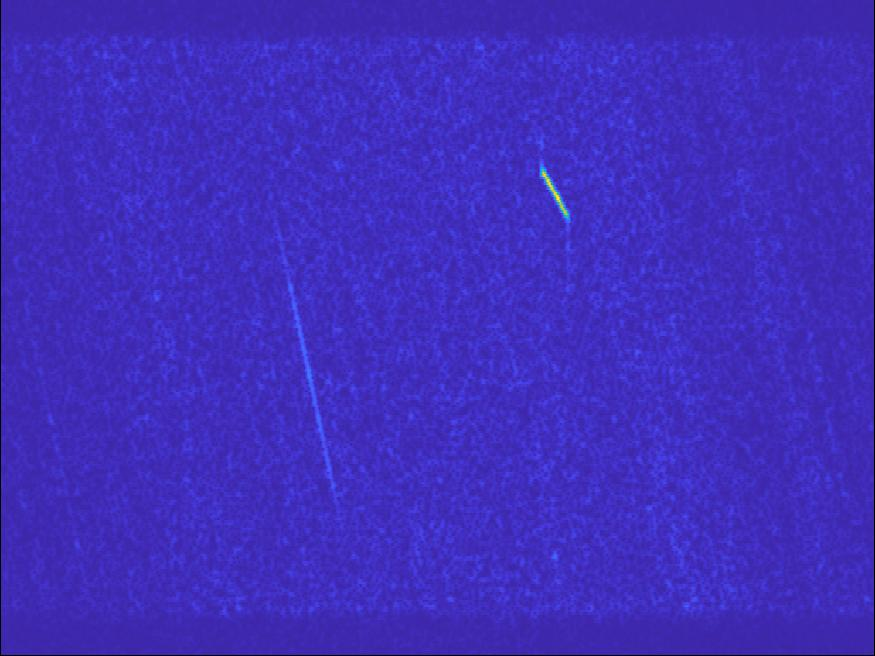Interference: (476, 377, 675, 543), (729, 476, 842, 511), (290, 311, 348, 353)
